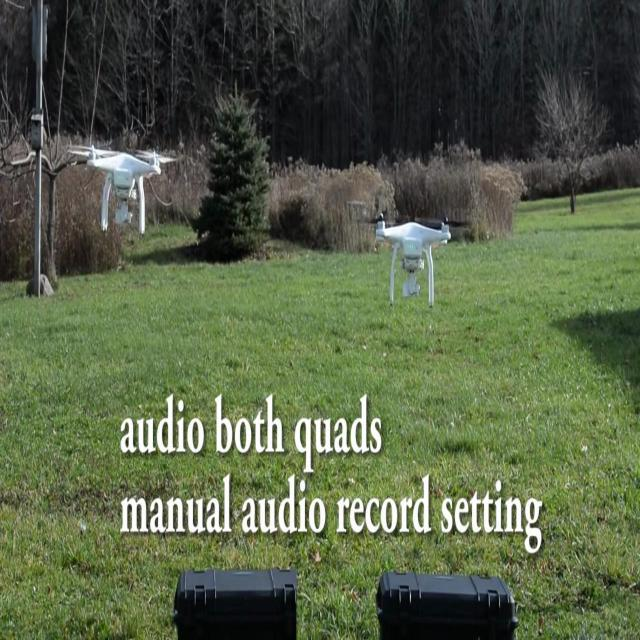drone: (355, 208, 470, 309), (60, 142, 181, 236)
